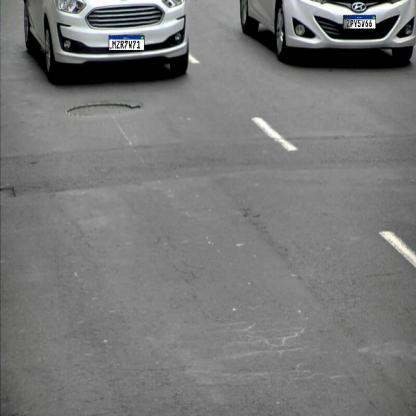PlacaM: (108, 35, 144, 51), (343, 15, 376, 29)
